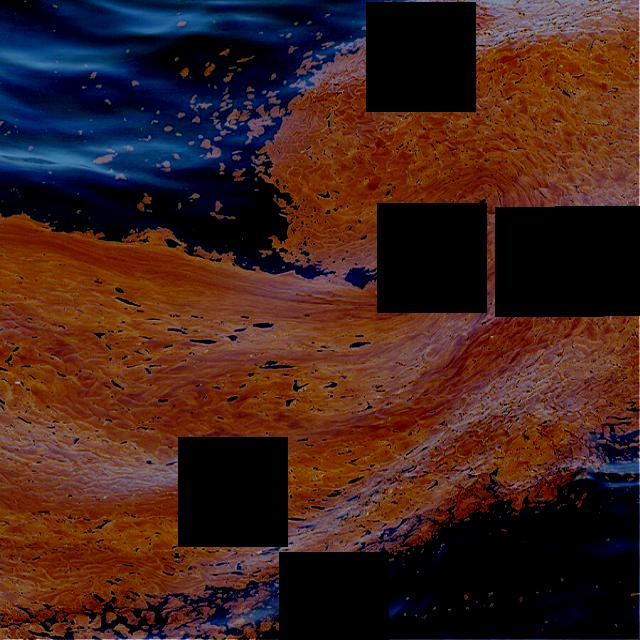oil spill: (0, 1, 640, 639)
